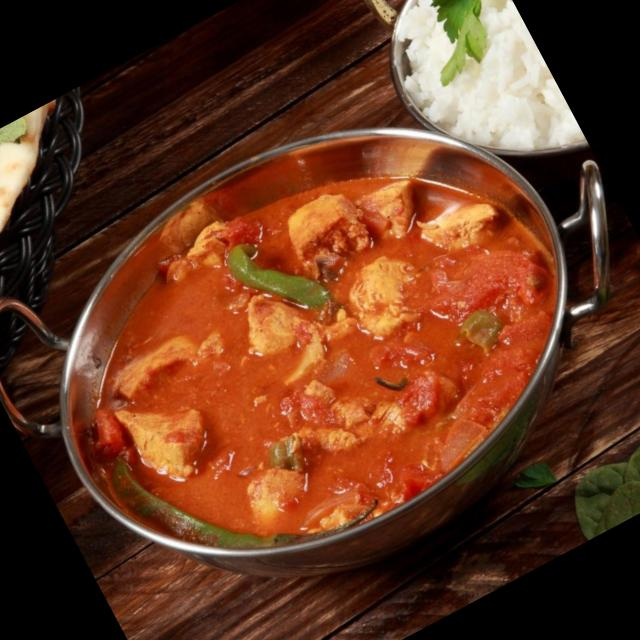chicken: (44, 86, 618, 608)
